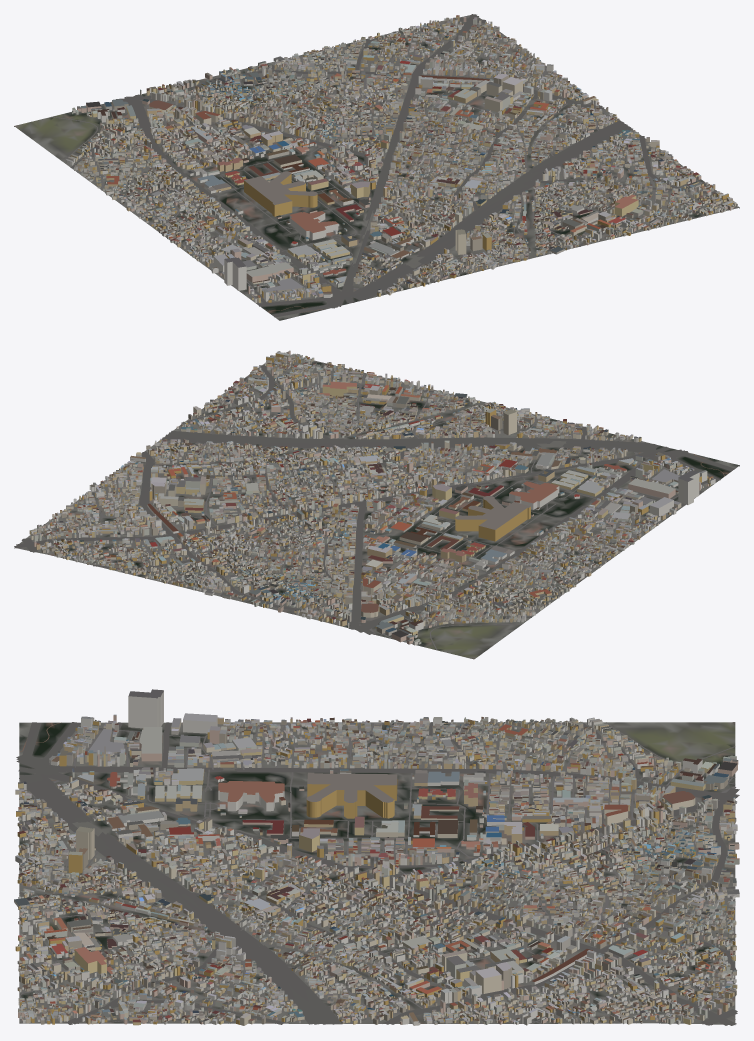
3 views of the same model, one above another, from view 1: azimuth 30°, elevation 25°; view 2: azimuth 150°, elevation 25°; view 3: azimuth 270°, elevation 25° (orthographic). The views are drawn at different scales.
Parts seen in each view (by area): view 1: buildings, ground, roads; view 2: buildings, ground, roads; view 3: buildings, ground, roads.
Boxes of the visible parts, bbox=[...] form: buildings: bbox=[65, 15, 737, 302]; ground: bbox=[14, 15, 739, 320]; roads: bbox=[51, 14, 738, 317]; buildings: bbox=[29, 350, 715, 645]; ground: bbox=[14, 355, 739, 659]; roads: bbox=[14, 360, 735, 650]; buildings: bbox=[14, 689, 739, 1025]; ground: bbox=[19, 722, 735, 1024]; roads: bbox=[16, 722, 739, 1025].
Size of the model in its own units: 1419 by 70.46 by 1420.
